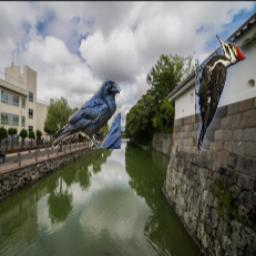Crow: (50, 78, 120, 149)
Woodpecker: (194, 35, 246, 159)
